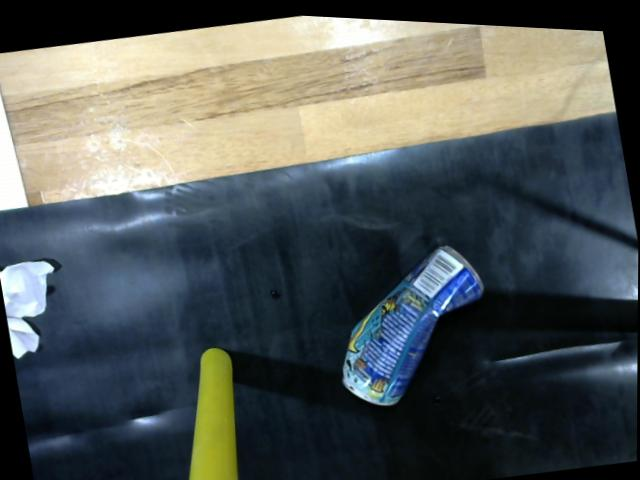can: (340, 231, 499, 408)
